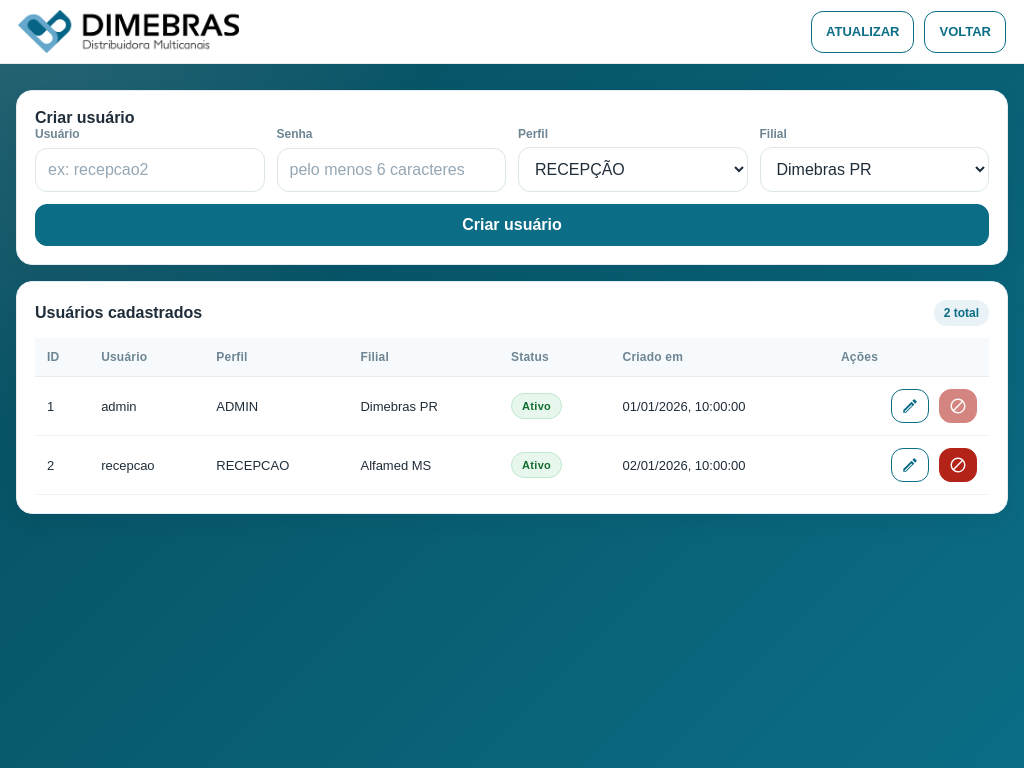
Test: AdminUsers › shows duplicate and network create errors as persistent alerts without technical text
Check: the text "recepcao" is shown, box [89, 436, 204, 494]
Type "novo" into the field labelled "Usuário". click: (150, 170)
box: [35, 148, 264, 192]
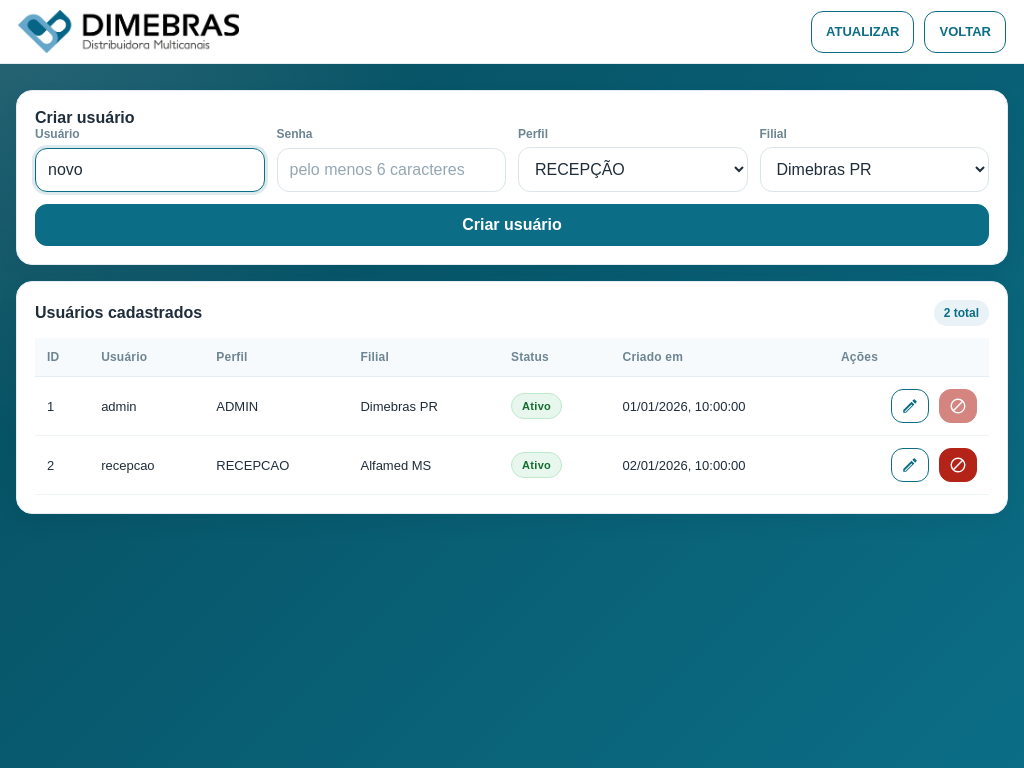
Type "123456" into the password field labelled "Senha". click: (391, 170)
box: [276, 148, 506, 192]
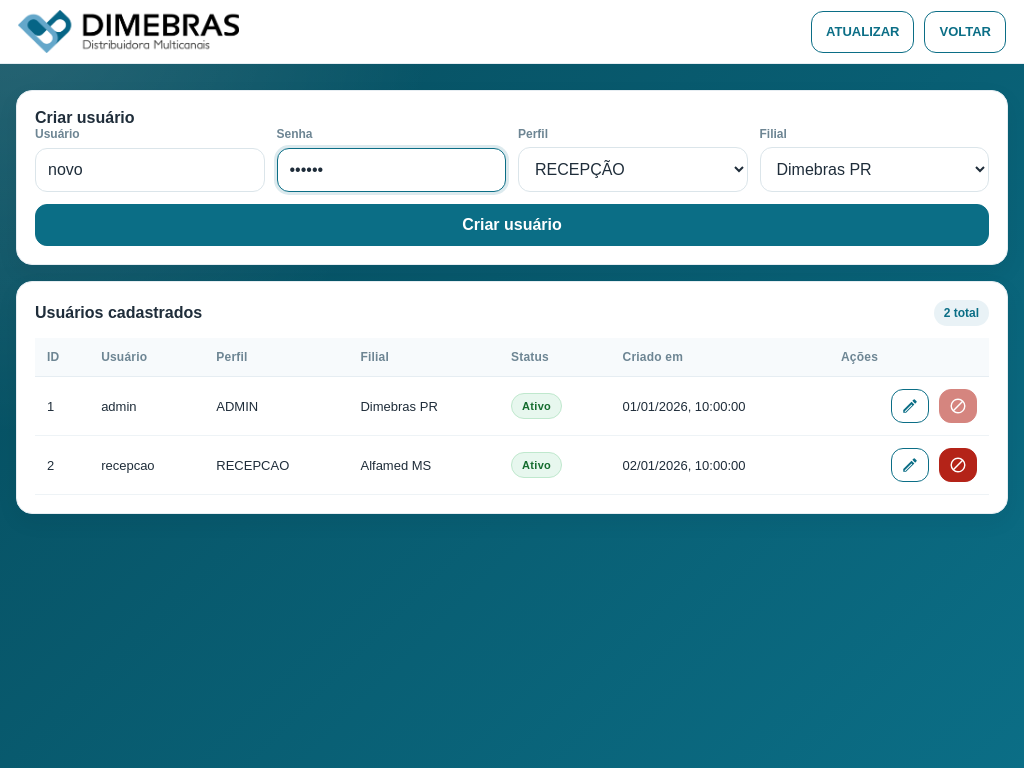
Click the button "Criar usuário". click: (512, 225)
box: [35, 204, 989, 246]
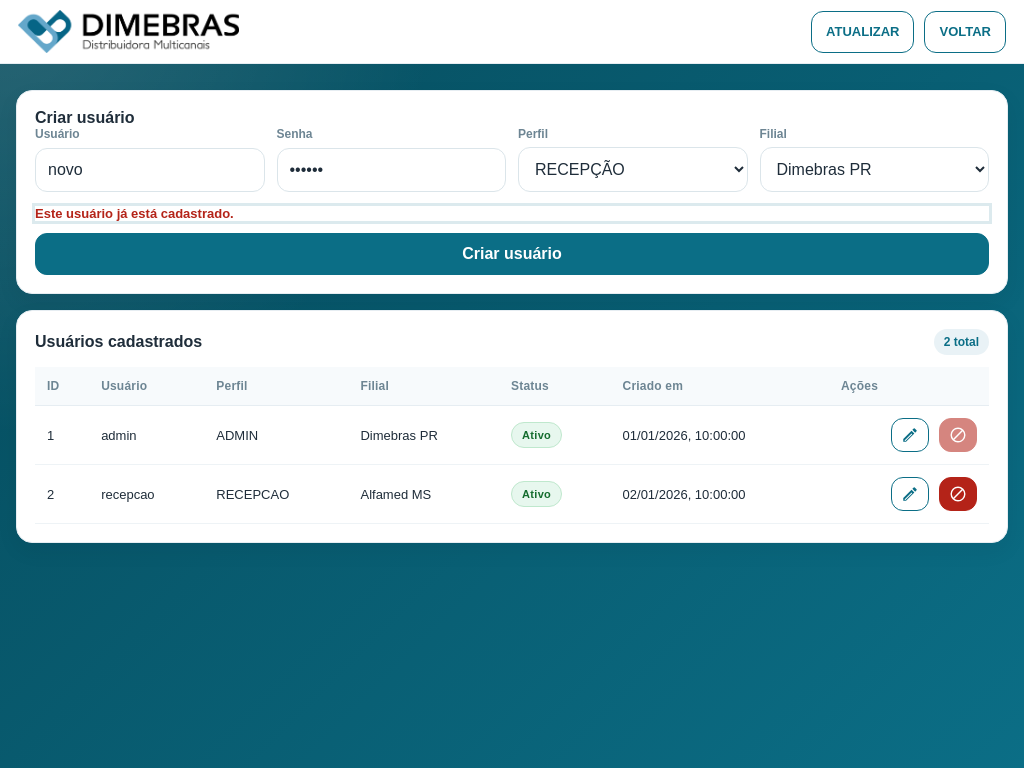
Check: the message does not show "P2002", box [35, 206, 989, 221]
Check: the message reads "Este usuário já está cadastrado.", box [35, 206, 234, 221]
Click the button "Criar usuário". click: (512, 254)
box: [35, 233, 989, 275]
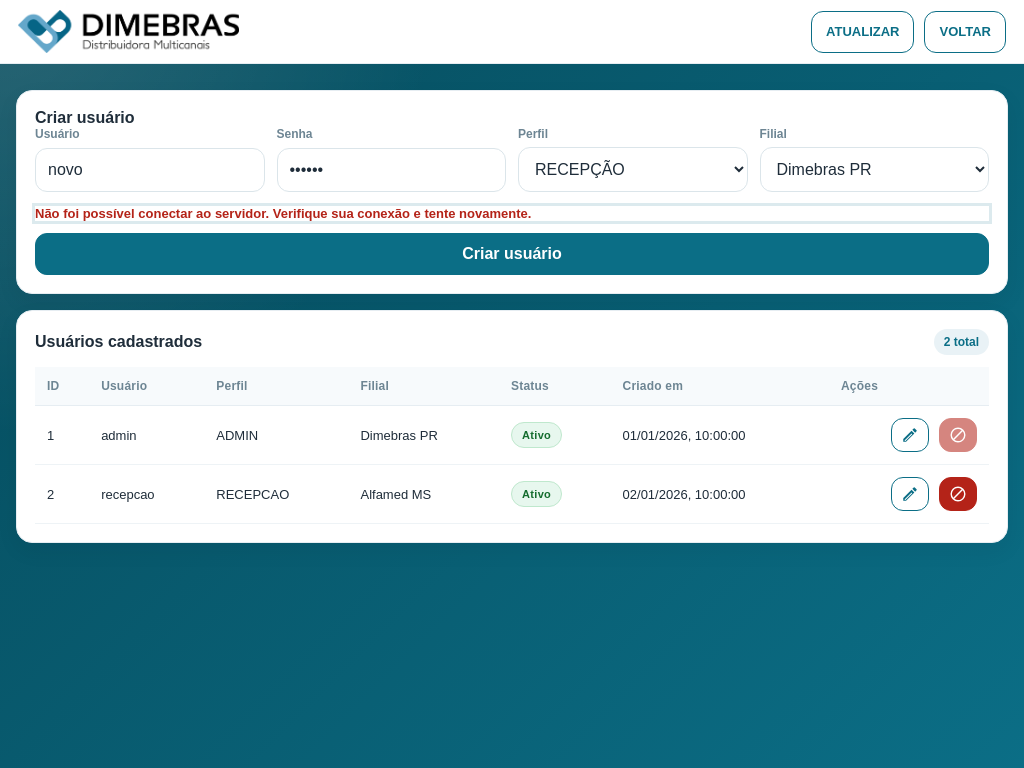
Check: the message shows "Não foi possível conectar ao servidor.", box [35, 206, 531, 221]
Check: the message shows "Verifique sua conexão e tente novamente.", box [35, 206, 531, 221]
